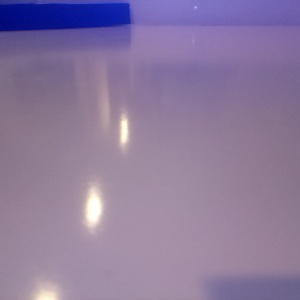zone: (1, 3, 131, 31)
